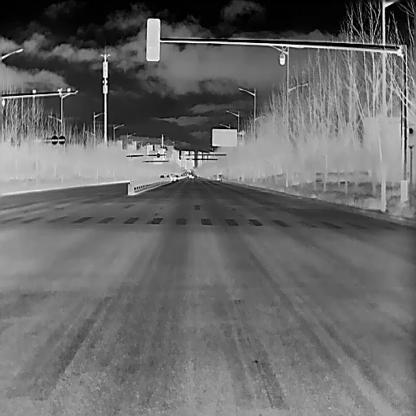car: (166, 173, 176, 181)
